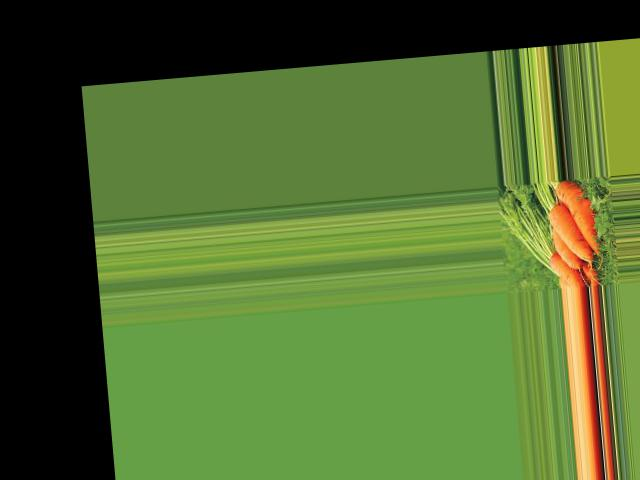carrot: (544, 250, 588, 286)
